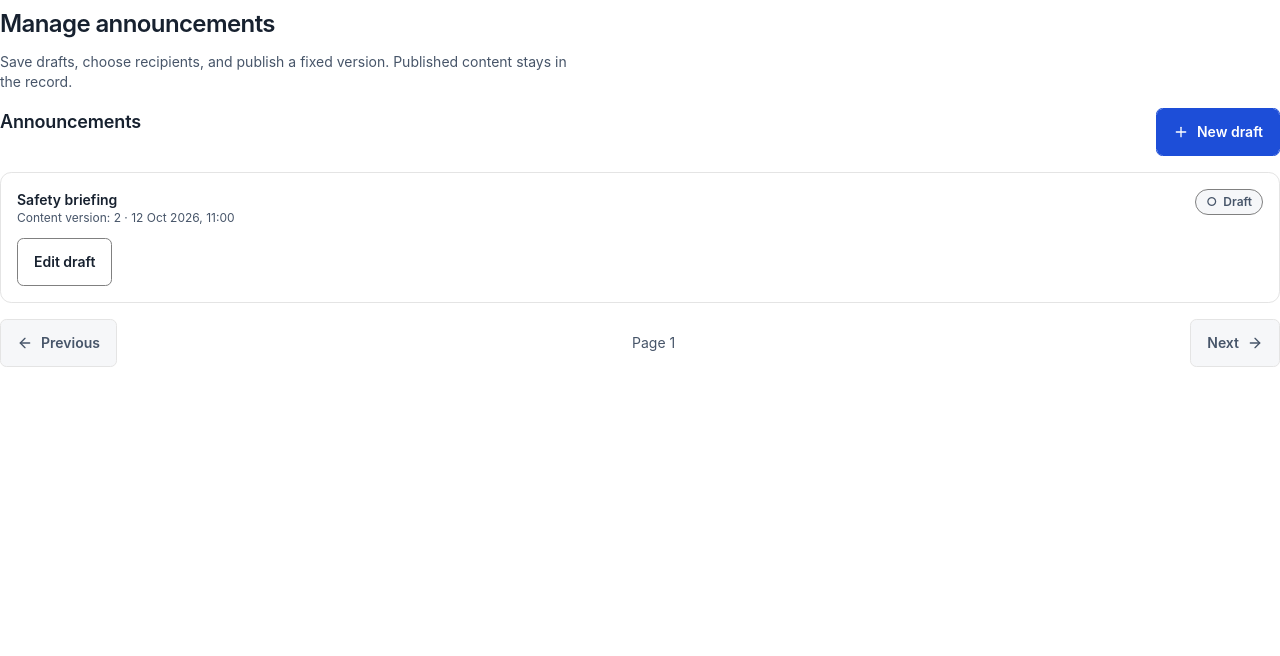
Test: schedules only saved content and sends Bangkok calendar inputs without browser conversion
Click the button "Edit draft" at (65, 262), box [17,238,112,286]
(page scrolled)
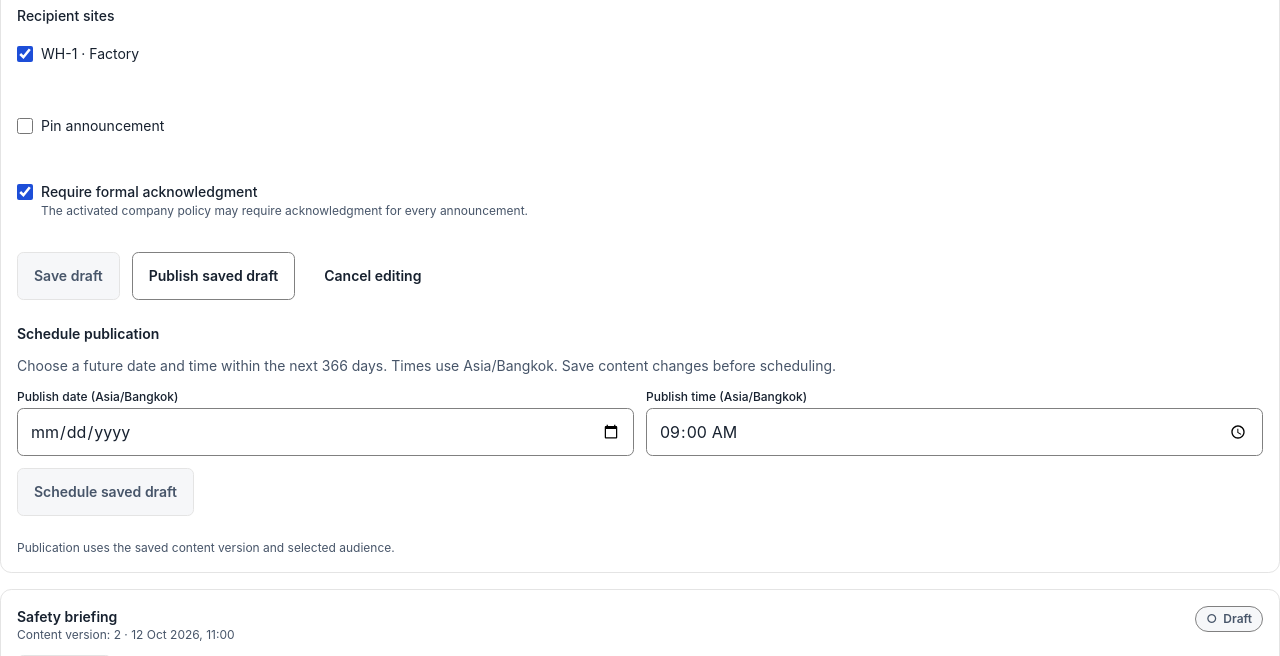
Type "2026-11-03" into the date field labelled "Publish date (Asia/Bangkok)" at (326, 432), box [17,408,634,456]
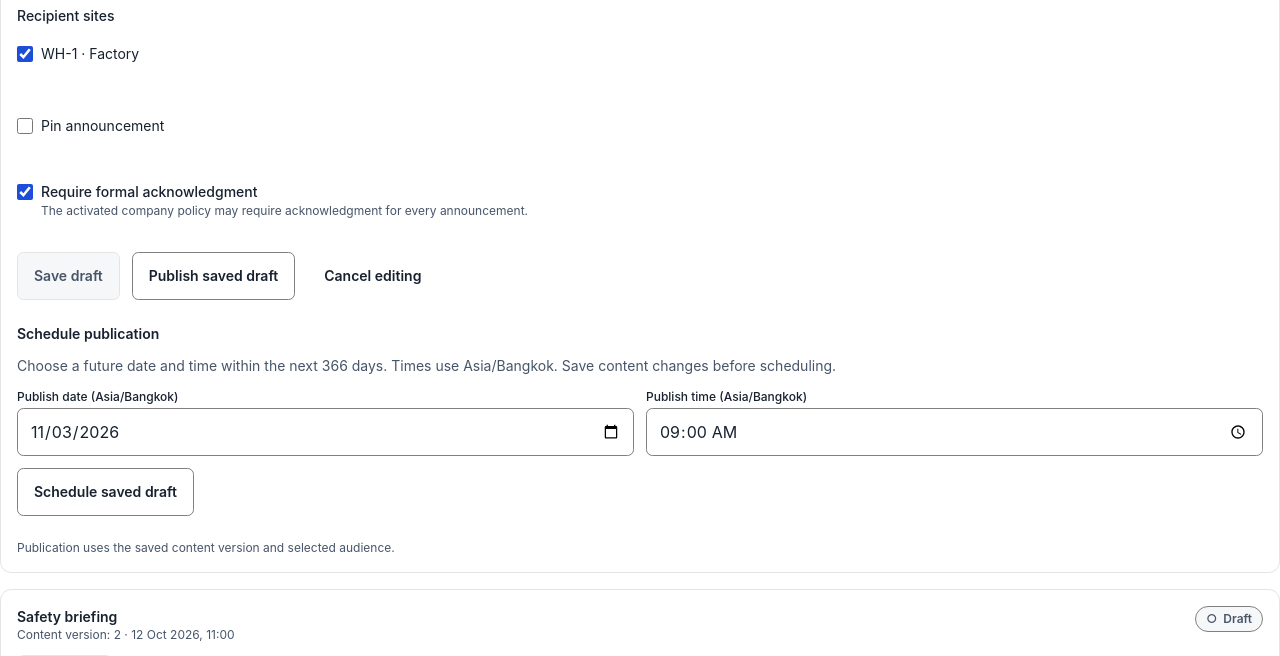
Replace the text in the time field labelled "Publish time (Asia/Bangkok)" with "08:45" at (954, 432), box [646,408,1263,456]
(page scrolled)
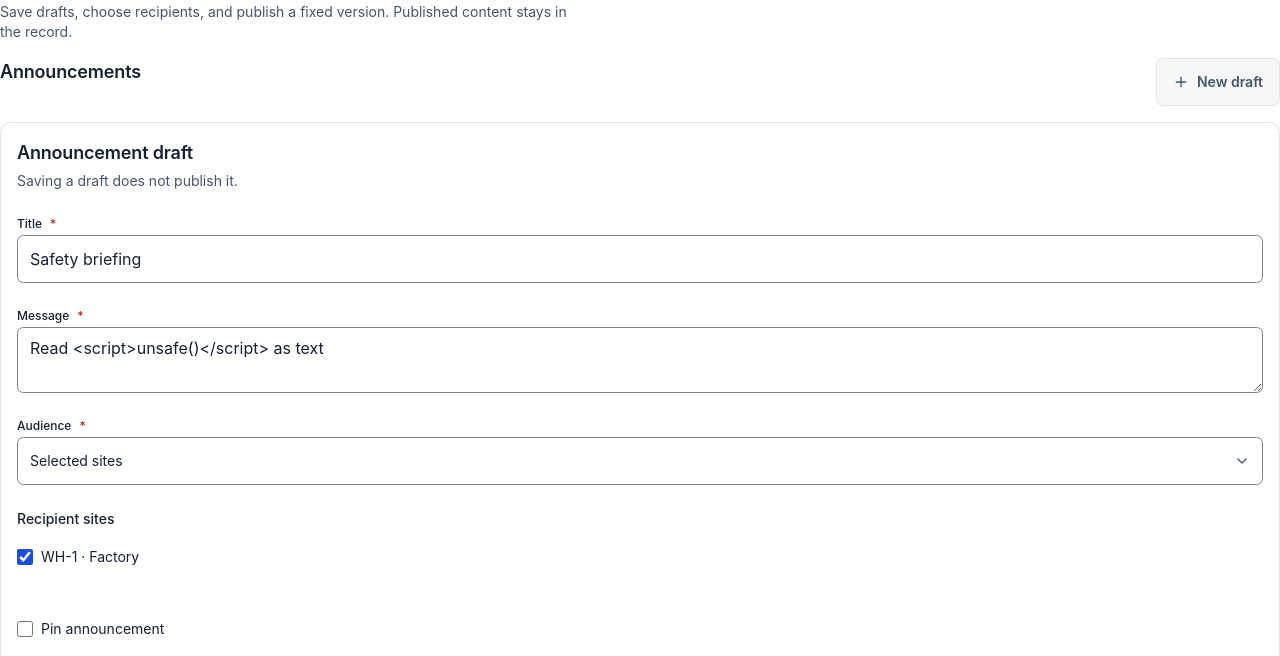
Replace the text in the text box labelled "Message" with "Updated message" at (640, 360), box [17,327,1263,393]
(page scrolled)
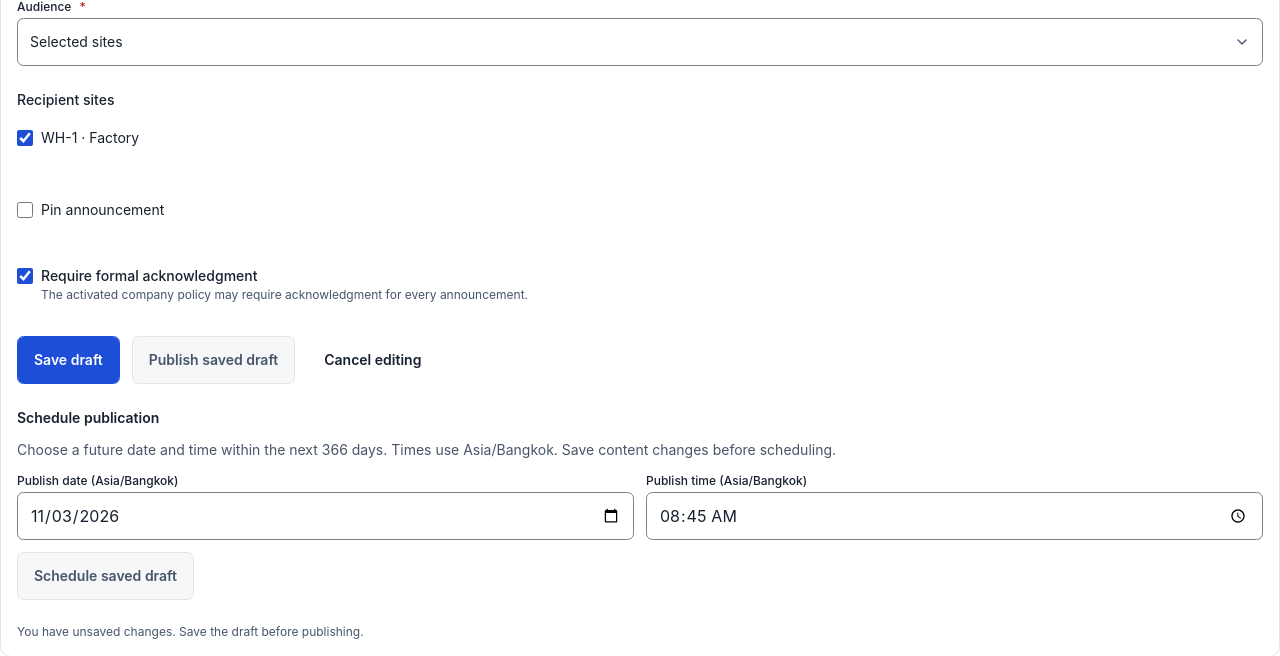
Result: the button "Schedule saved draft" is disabled at [17,552,194,600]
Click the button "Save draft" at (68, 360), box [17,336,120,384]
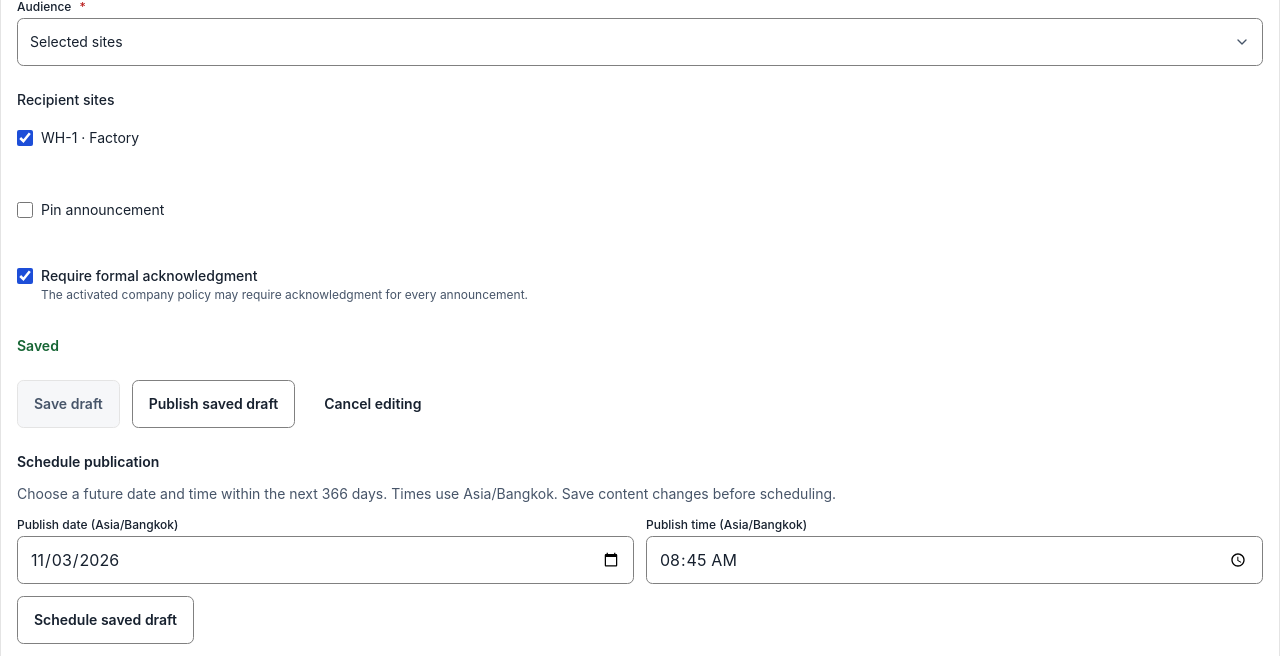
Result: the button "Schedule saved draft" is enabled
Click the button "Schedule saved draft" at (106, 620), box [17,596,194,644]
(page scrolled)
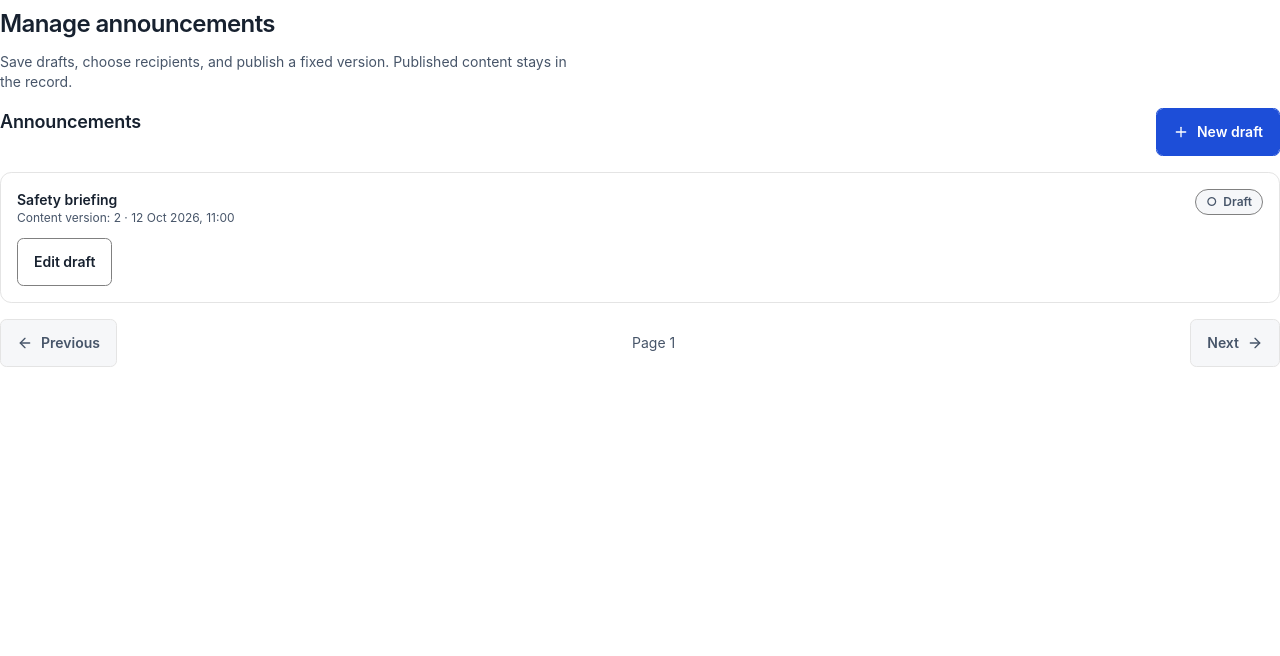
Result: the button "Schedule saved draft" is gone
